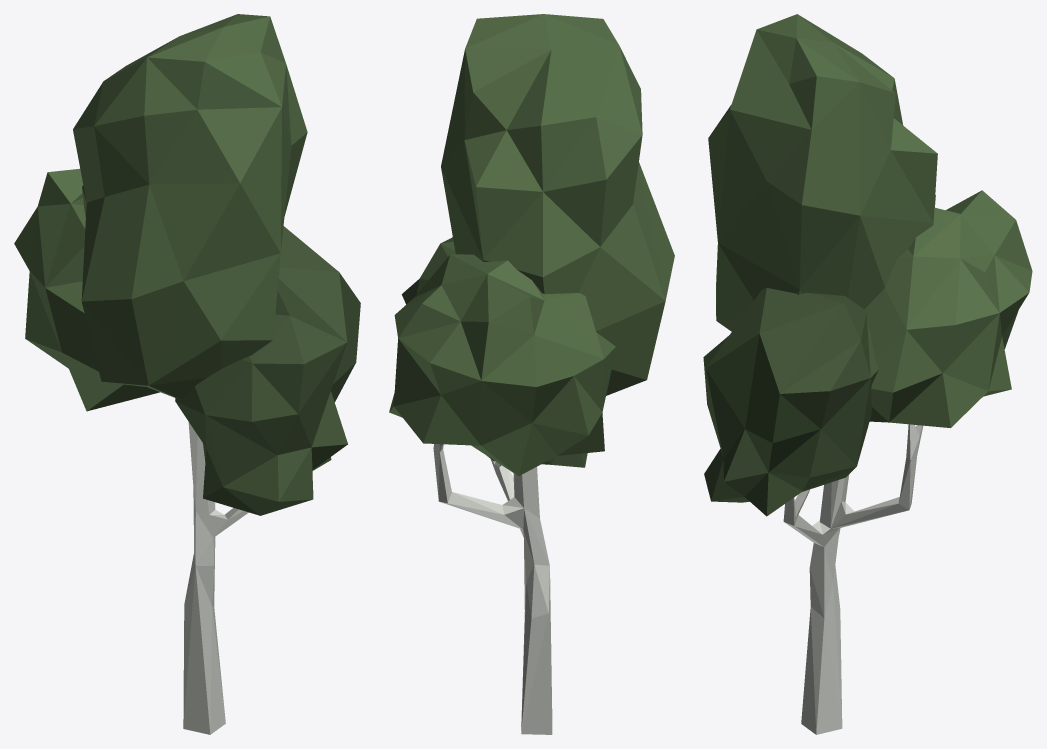
File: BirchTree_3.lod2.glb
3 renders of one model, left to right at view 1: azimuth 30°, elevation 25°; view 2: azimuth 150°, elevation 25°; view 3: azimuth 270°, elevation 25°, orthographic. The views are drawn at different scales.
Visible parts, largest first — view 1: BirchTree_3; view 2: BirchTree_3; view 3: BirchTree_3.
Part boxes in pixels (bbox=[...]): BirchTree_3: bbox=[14, 14, 360, 734]; BirchTree_3: bbox=[389, 14, 674, 734]; BirchTree_3: bbox=[703, 14, 1032, 734].
Size of the model in its own units: 1.58 by 4.09 by 1.76.
